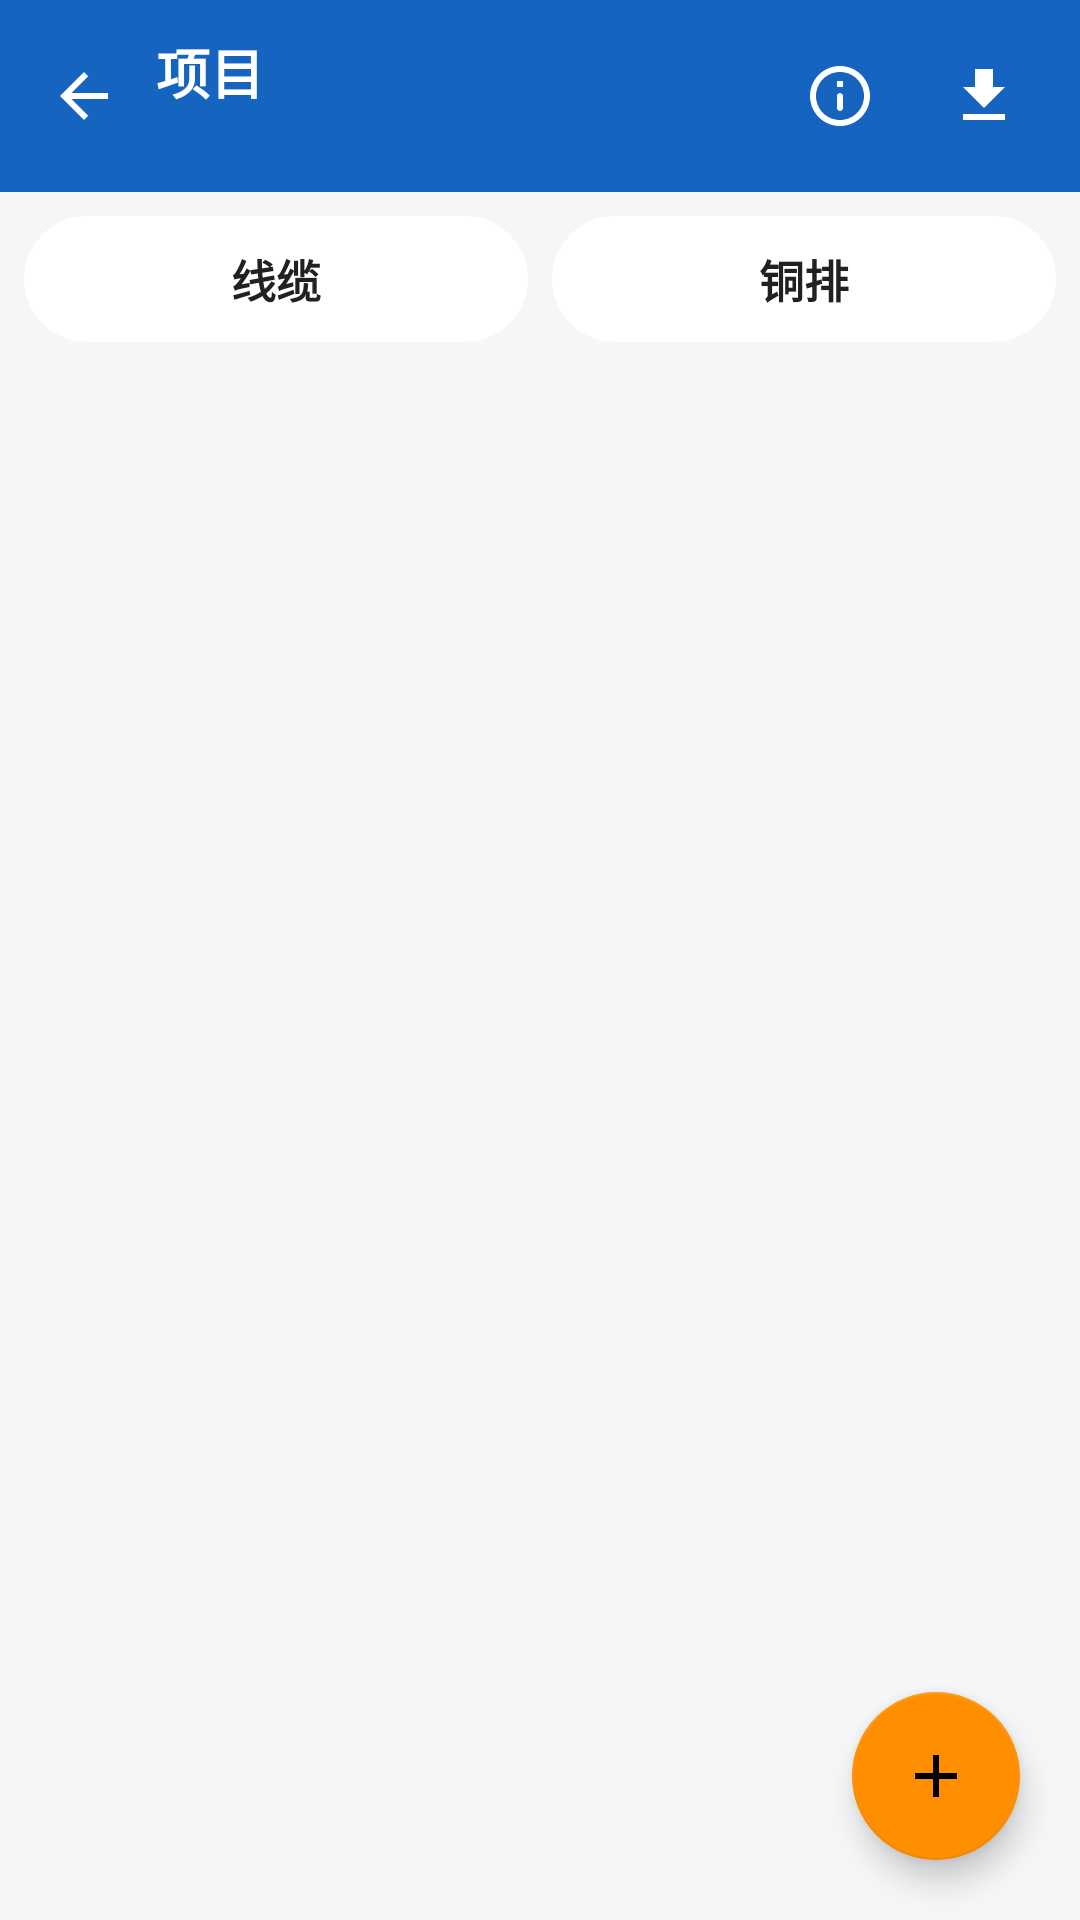

Named icons in this screenshot (1080x1920) and their centers, (x=x, y=y):
add: (x=936, y=1776)
全部记录明细: (x=840, y=96)
导出当前项目Excel: (x=984, y=94)
返回: (x=84, y=96)
